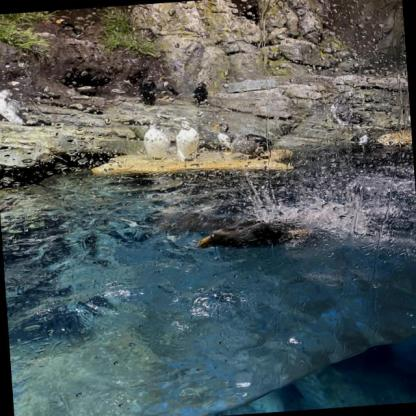puffin: (194, 211, 314, 252), (143, 120, 172, 161), (173, 121, 201, 161), (0, 88, 29, 126), (329, 100, 365, 128), (213, 120, 239, 156), (349, 131, 384, 156), (239, 132, 268, 156), (154, 75, 179, 101), (190, 79, 212, 108), (54, 18, 77, 38), (141, 75, 156, 104)
